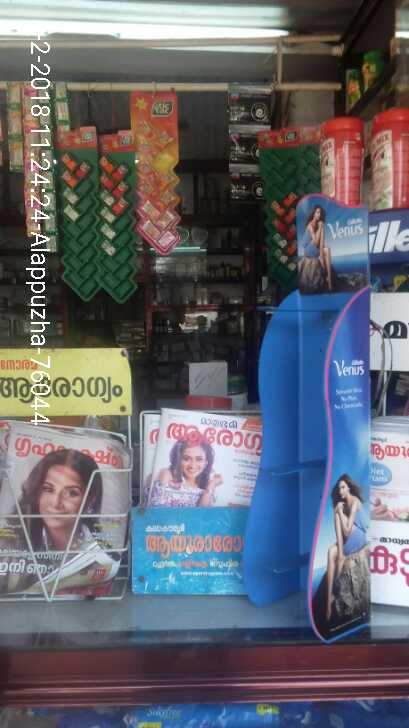reject: (85, 238, 125, 270)
